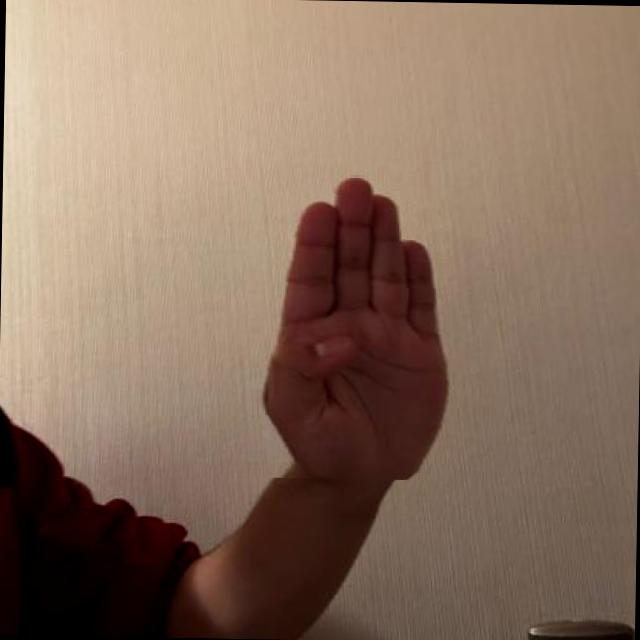B: (247, 167, 452, 480)
